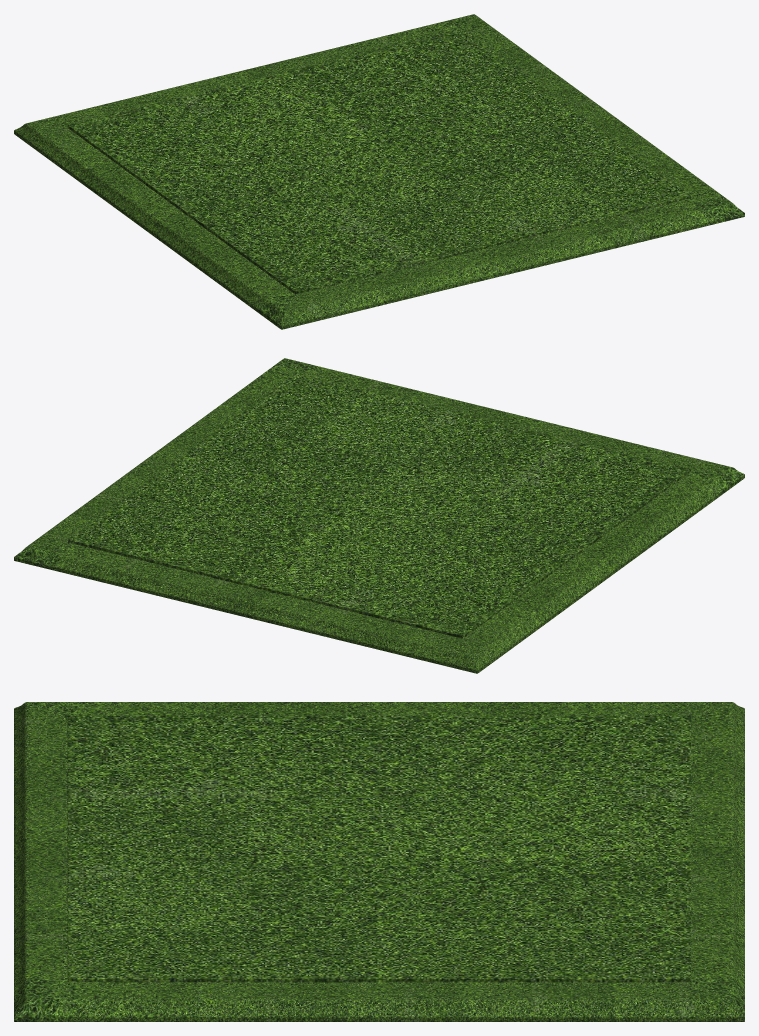
Rendered from board.obj.
The picture shows the model from 3 angles, top to bottom: view 1: azimuth 30°, elevation 25°; view 2: azimuth 150°, elevation 25°; view 3: azimuth 270°, elevation 25°; orthographic projection. The views are drawn at different scales.
Visible parts, largest first — view 1: 12951_Stone_Chess_Board_v1_L3.001; view 2: 12951_Stone_Chess_Board_v1_L3.001; view 3: 12951_Stone_Chess_Board_v1_L3.001.
Part boxes in pixels (x1,y1,x2,y2): 12951_Stone_Chess_Board_v1_L3.001: [14, 14, 744, 329]; 12951_Stone_Chess_Board_v1_L3.001: [14, 358, 744, 673]; 12951_Stone_Chess_Board_v1_L3.001: [14, 702, 744, 1021].
Bounding box in the file's own units: 50.8 × 1.58 × 50.8.
